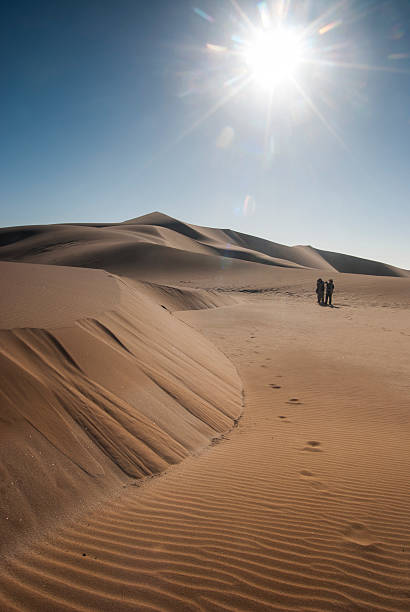human_footprint: (342, 522, 379, 547), (299, 469, 325, 489), (303, 440, 321, 451), (278, 415, 290, 422), (287, 398, 301, 404), (269, 383, 281, 389), (278, 415, 287, 419)
